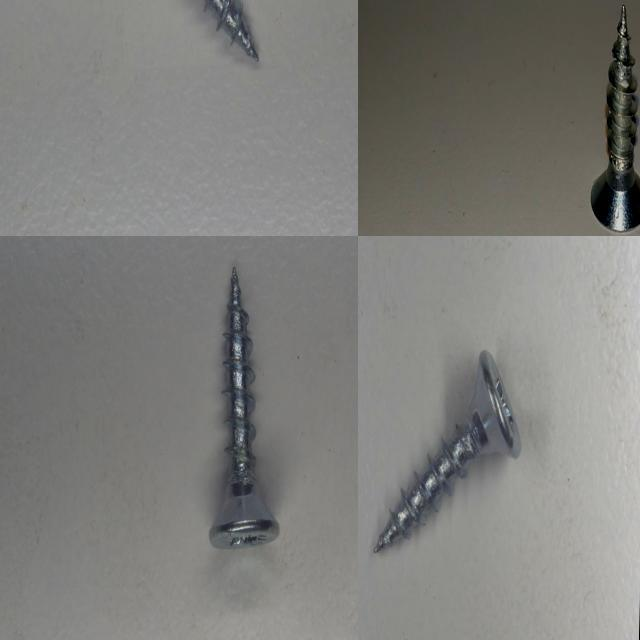Screw: (374, 349, 521, 551), (209, 266, 280, 548), (591, 3, 640, 231)
